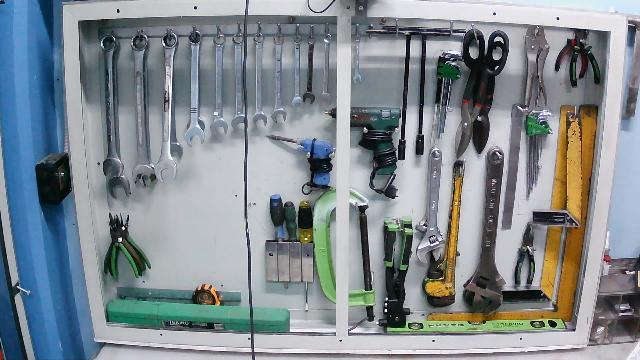kunci_l: (430, 48, 464, 147)
